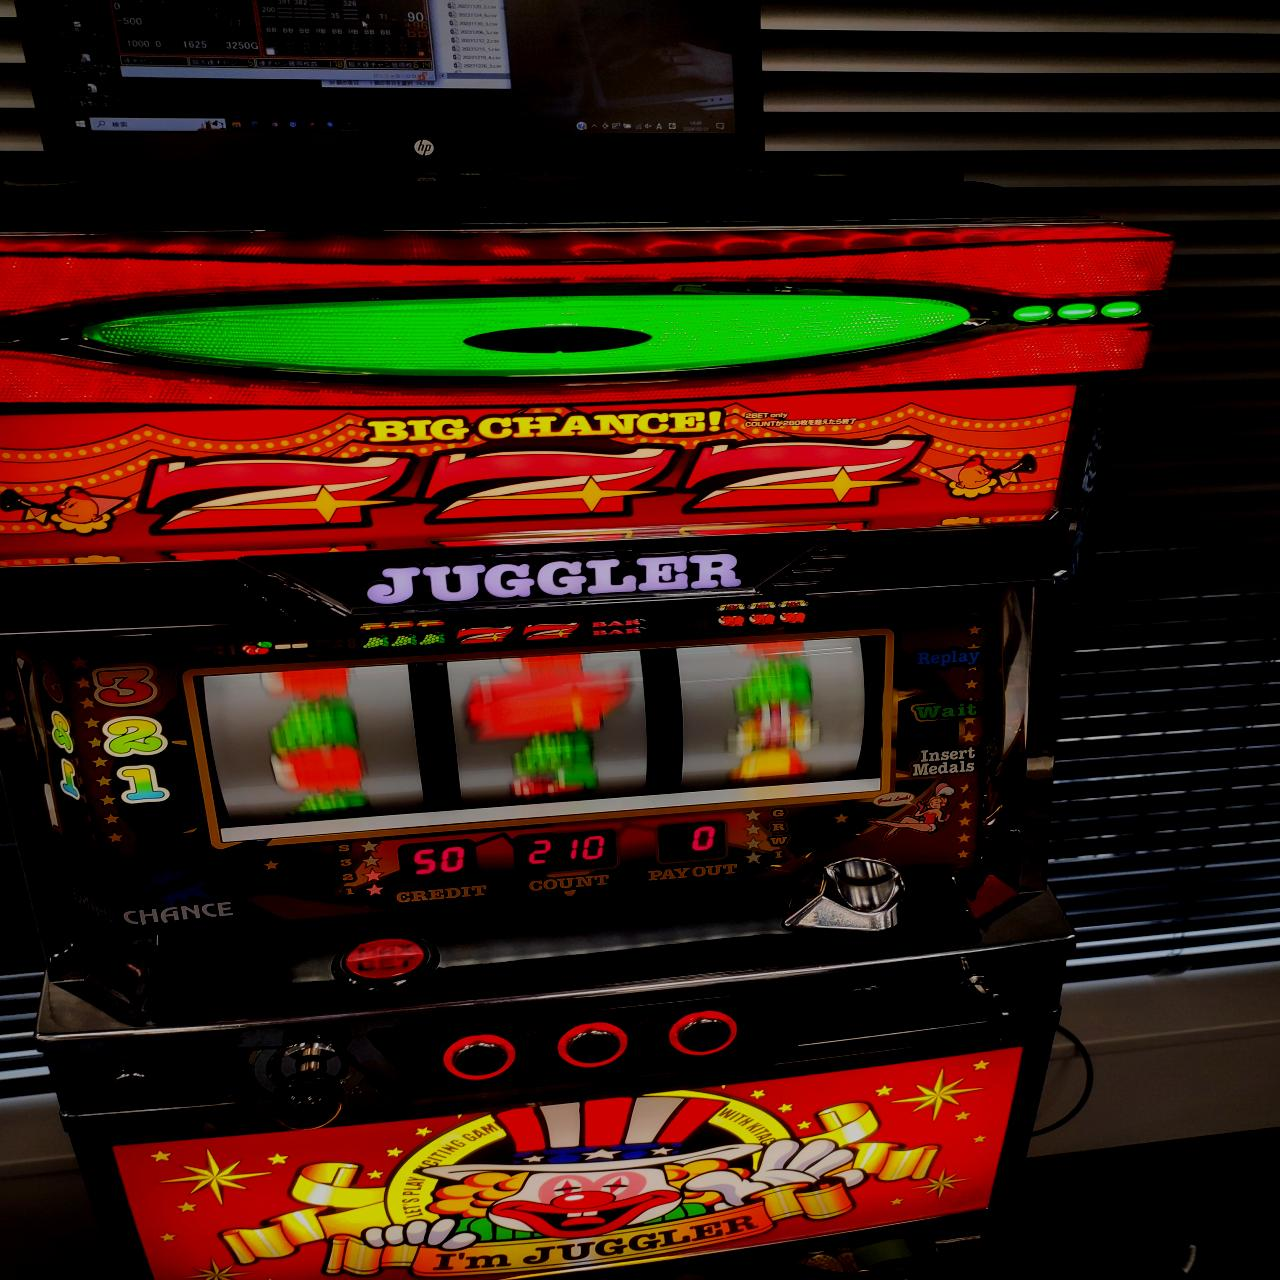rhino: (188, 632, 880, 811)
